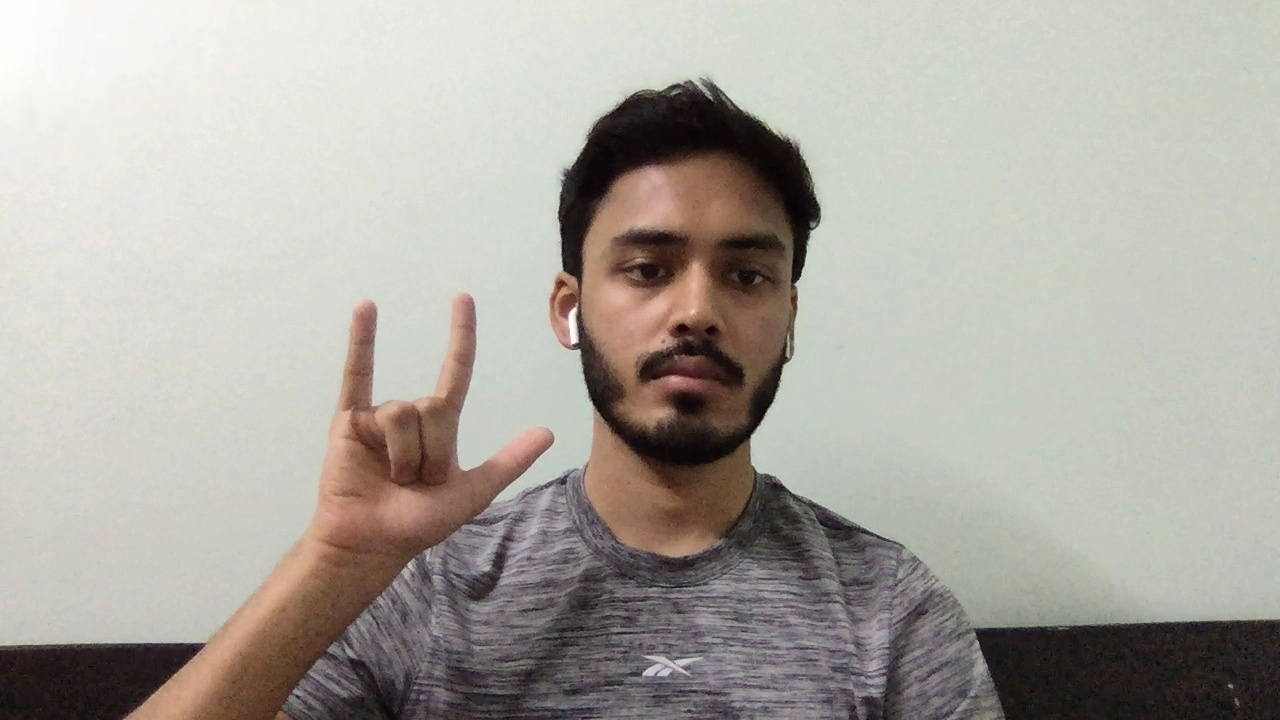I Love You: (297, 281, 567, 587)
